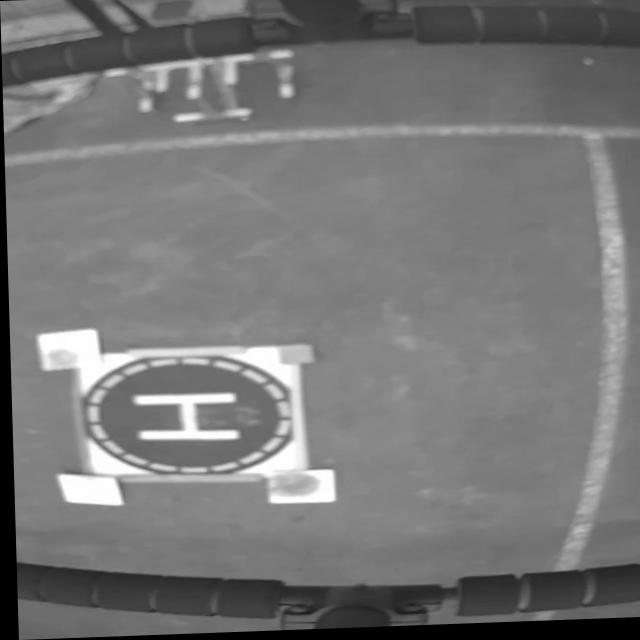Helipad: (130, 394, 238, 441)
